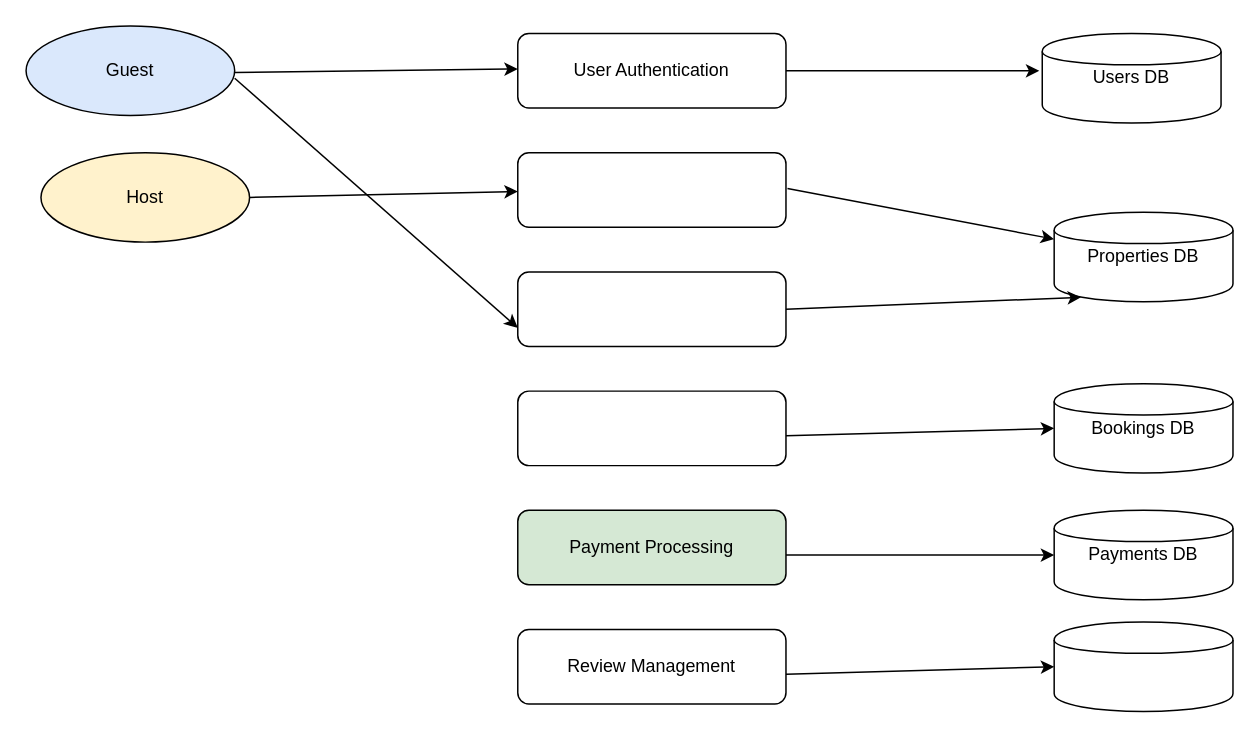
This 1259x738 diagram has some shape labels left out. Each missing label, with the centre of its shape:
Booking Management: the point at 651,428
Property Management: the point at 651,189
Reviews DB: the point at 1143,666
Search & Filter: the point at 651,308
